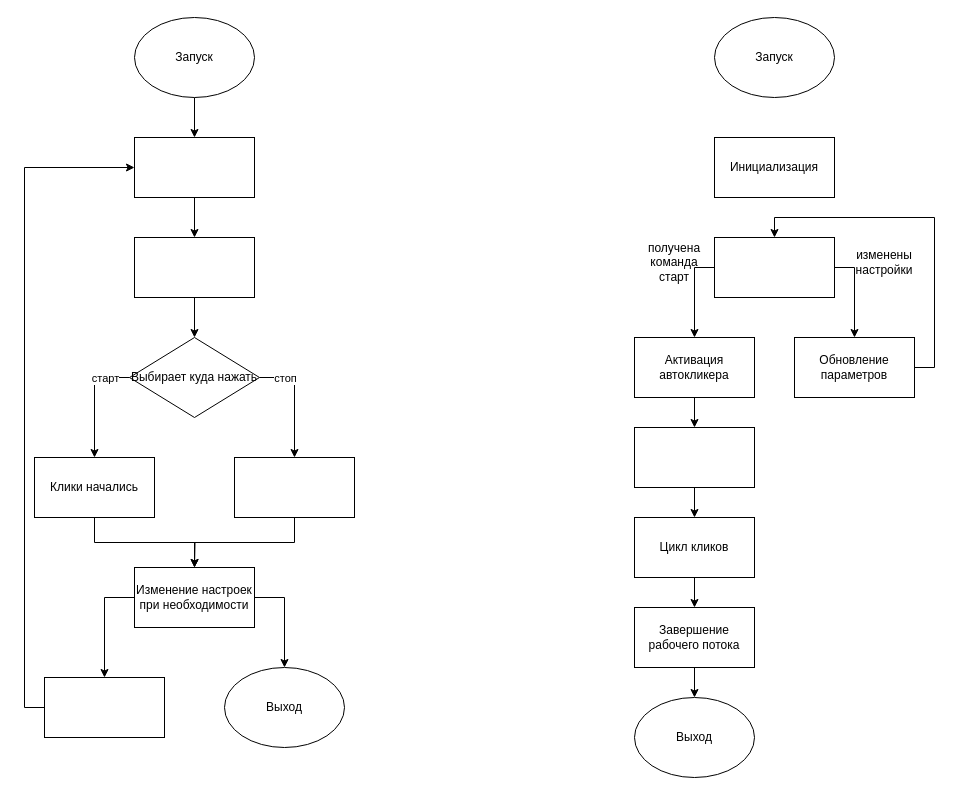
Image size: 960x795. Some labels were removed from this diagram. Here are the shapes that lost their labels. From the top down, the centre of each, then its label:
At (x=194, y=167): "Видит перед собой интерфейс".
At (x=194, y=267): "Ставит настройки, которые требуются пользователю".
At (x=774, y=267): "Ожидание команд от пользователя".
At (x=694, y=457): "Создание рабочего потока".
At (x=294, y=487): "Клики остановленны".
At (x=104, y=707): "Повтор работы".
